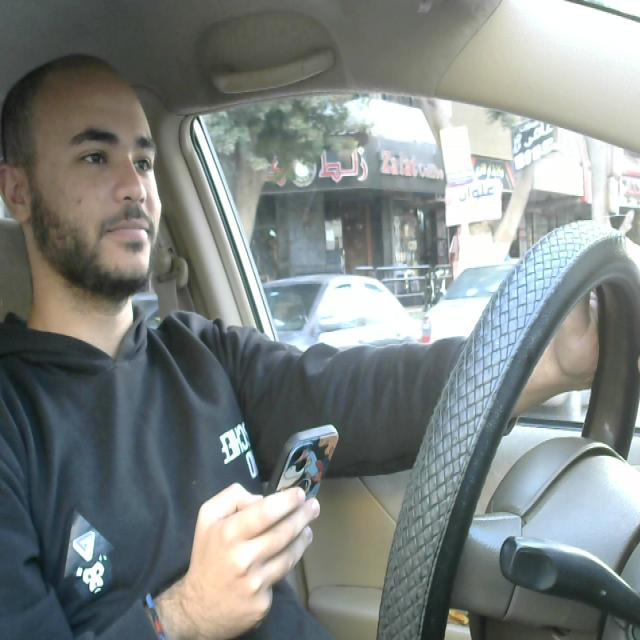mobile use: (264, 418, 338, 585)
